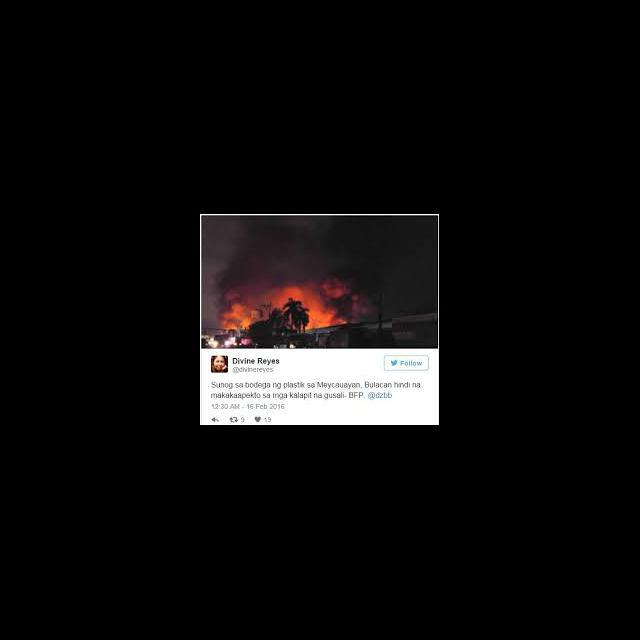Fire: (214, 272, 364, 330)
